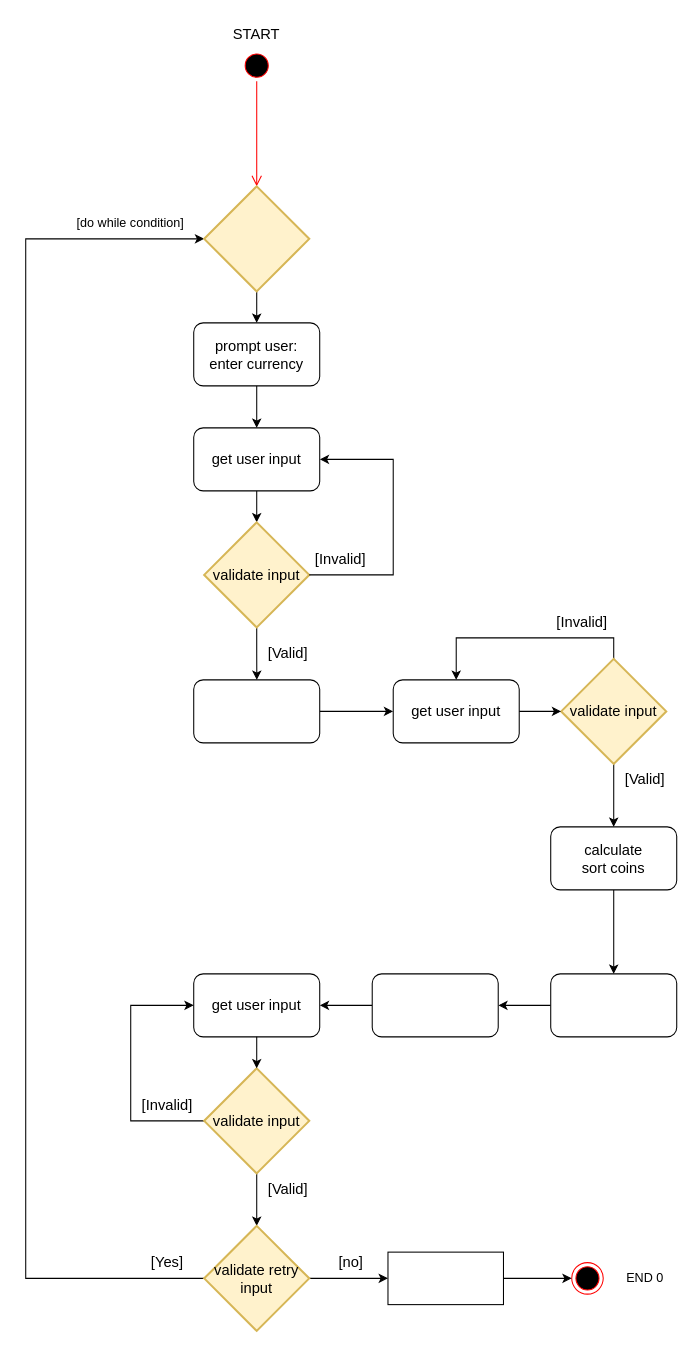
The diagram is 695 pixels wide and 1349 high, and some of its shapes have lost their labels. Each missing label, with the centre of its shape:
display sorted coins: (x=613, y=1005)
press enter to quit: (x=445, y=1278)
prompt user: change value: (x=256, y=711)
prompt user: retry or quit?: (x=434, y=1005)
